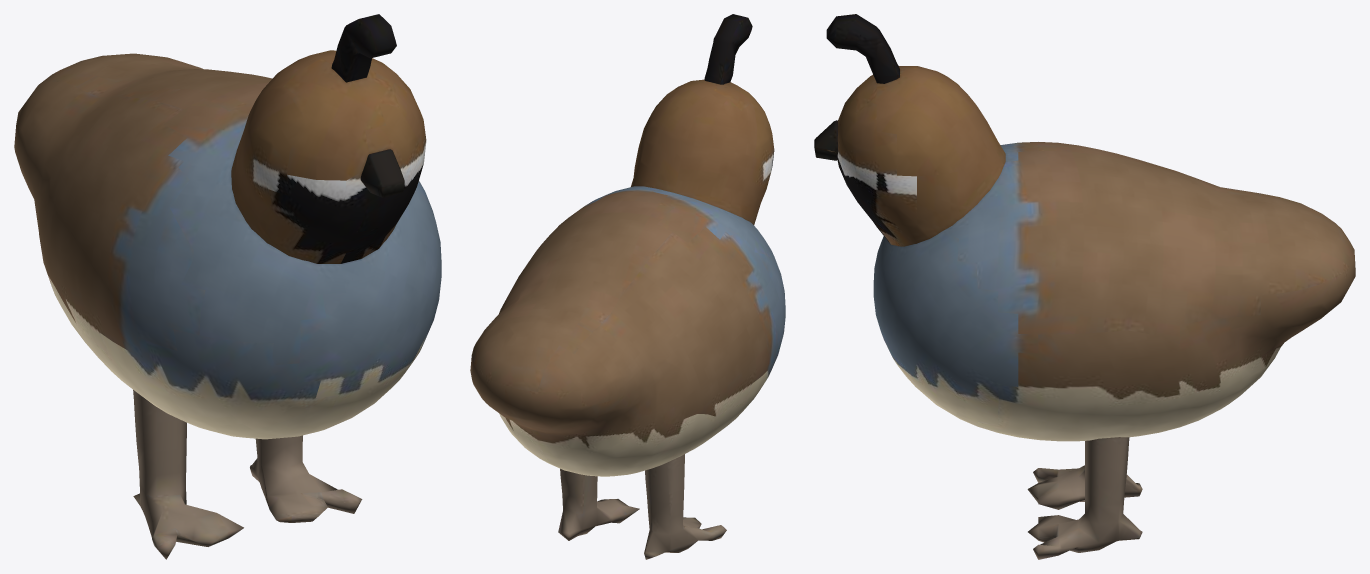
Rendered from animal_quail.glb.
3 renders of one model, left to right at view 1: azimuth 30°, elevation 25°; view 2: azimuth 150°, elevation 25°; view 3: azimuth 270°, elevation 25°, orthographic. The views are drawn at different scales.
Visible parts, largest first — view 1: animal_quail, head, leg0, leg1; view 2: animal_quail, head, leg0, leg1; view 3: animal_quail, head, leg1, leg0.
Boxes of the visible parts, x1,y1,x2,y2 form: animal_quail: [14, 53, 441, 439]; head: [231, 14, 426, 263]; leg0: [133, 390, 243, 559]; leg1: [250, 435, 362, 522]; animal_quail: [470, 186, 785, 476]; head: [631, 14, 774, 224]; leg0: [644, 454, 726, 559]; leg1: [558, 468, 639, 540]; animal_quail: [873, 142, 1355, 441]; head: [814, 14, 1005, 246]; leg1: [1028, 437, 1142, 559]; leg0: [1027, 465, 1142, 509].
Bounding box in the file's own units: 0.0735 × 0.1381 × 0.1338.
Materials: 1 (1 with a texture image).
